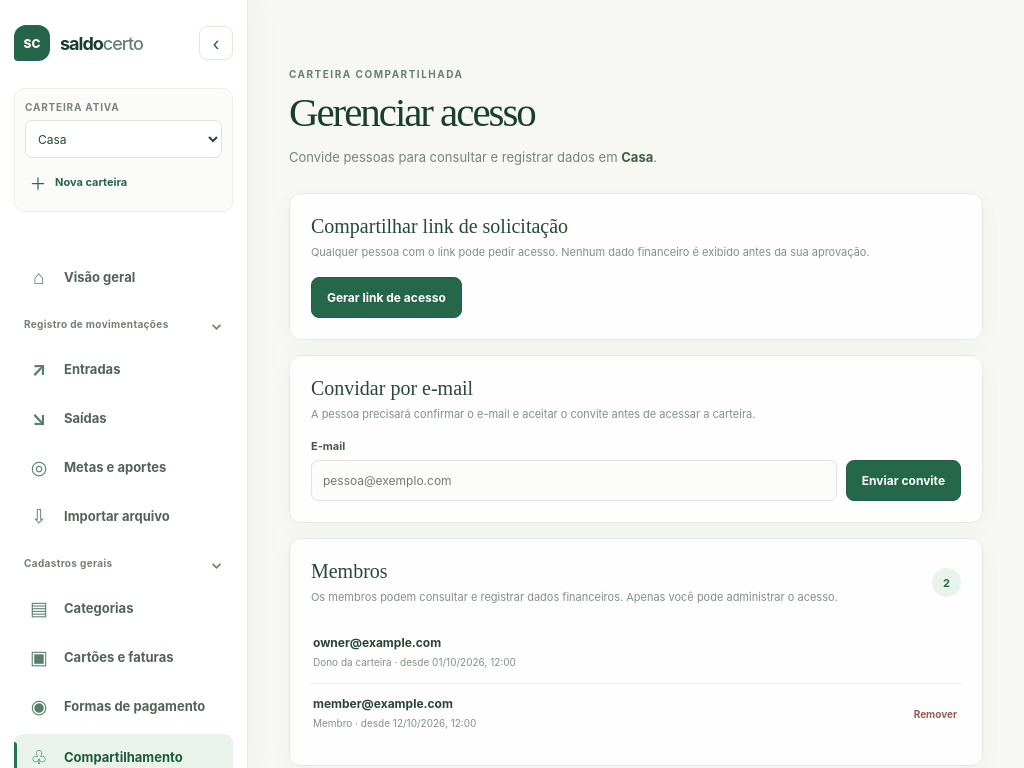
Test: wallet sharing management › reports a conflict when the invitation cannot be created
This screenshot has width=1024, height=768.
Type "guest@example.com" into the field labelled "E-mail" at (574,480), box [311,460,837,501]
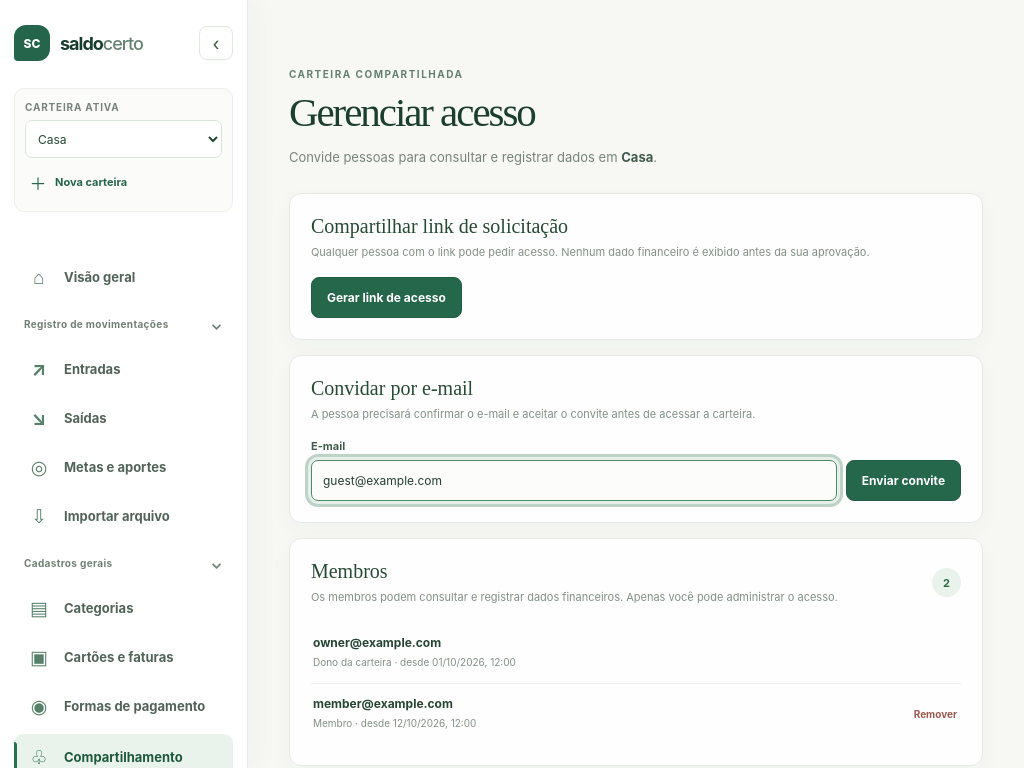
Click the button "Enviar convite" at (903,480), box [846,460,961,501]
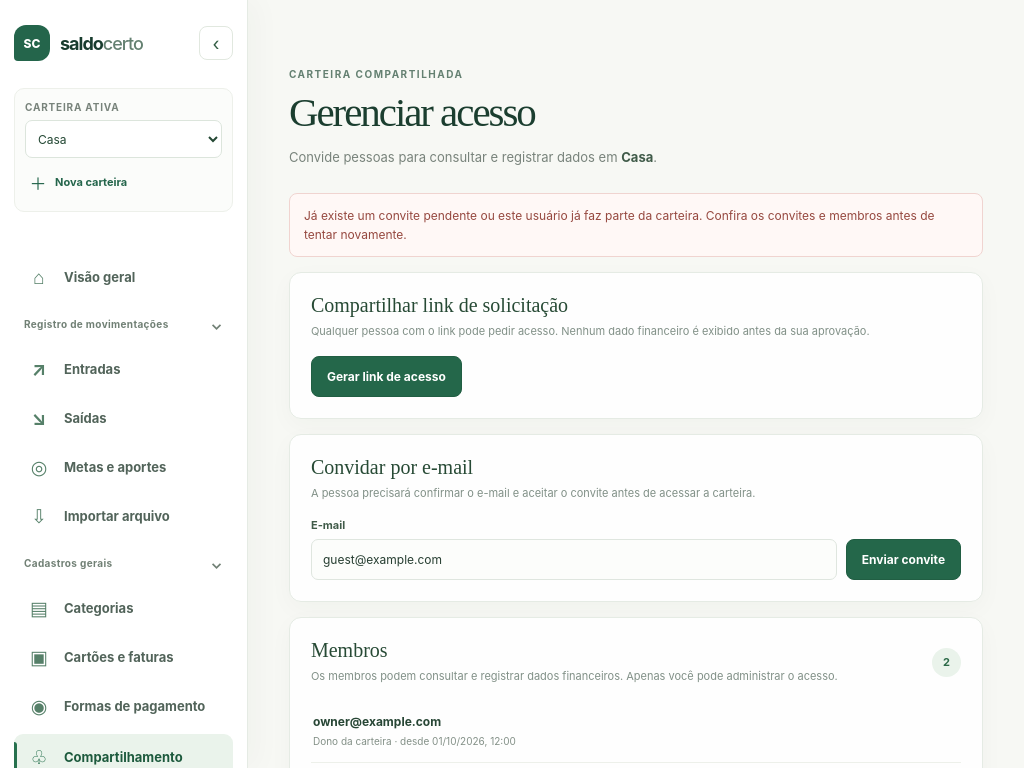
Expected: the message shows "Já existe um convite pendente", [304,208,934,242]
